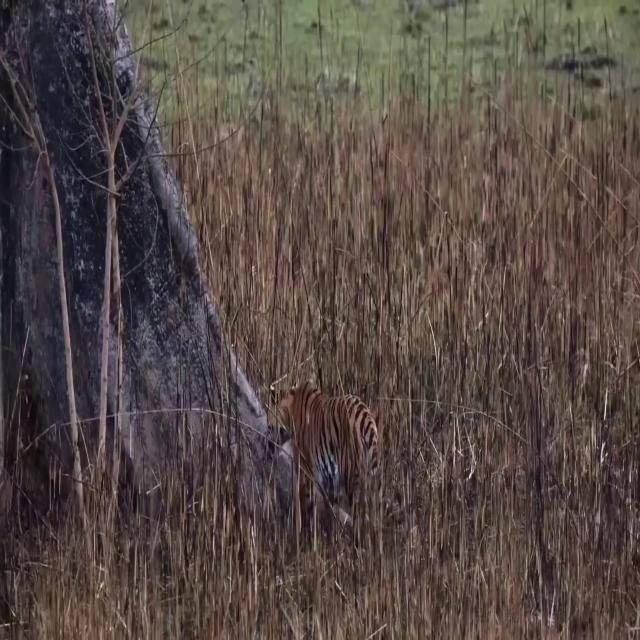tiger: (268, 380, 396, 542)
